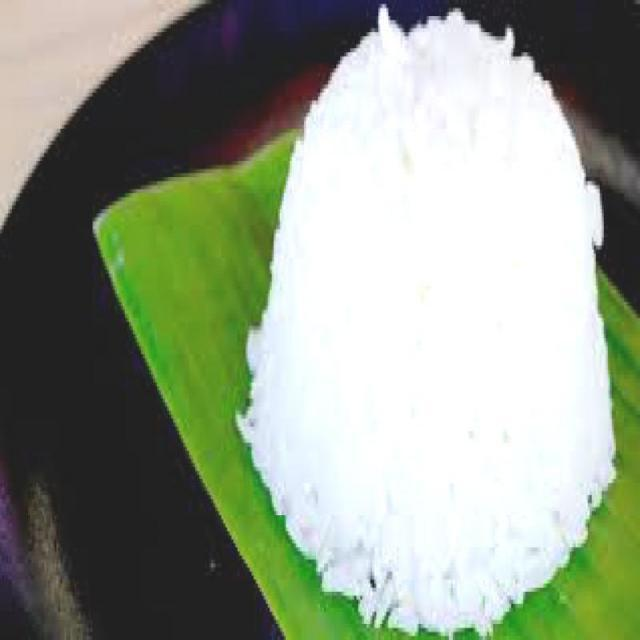rice: (247, 14, 616, 635)
